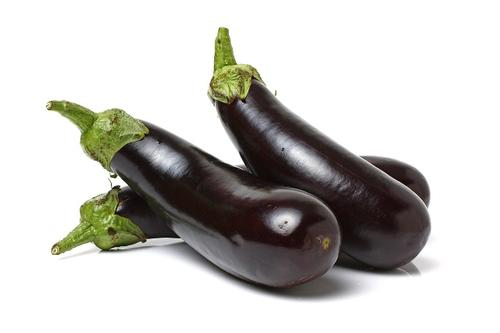fruit_eggplant: (38, 92, 351, 295), (208, 26, 439, 271)
